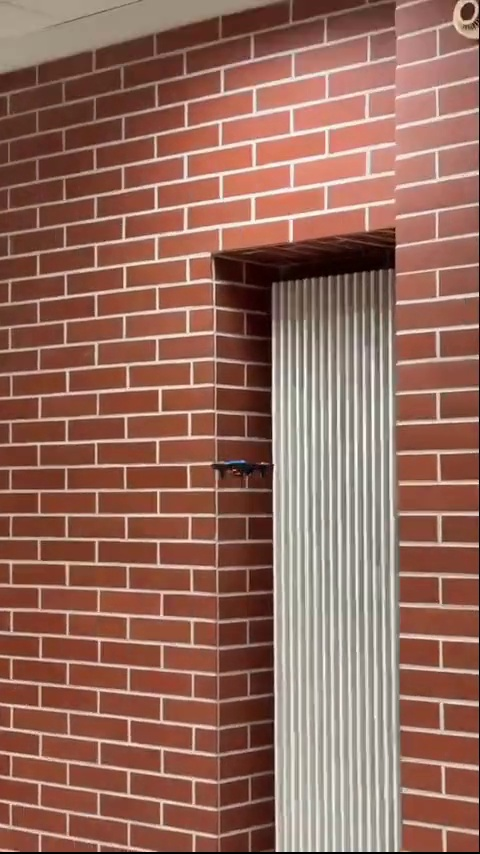drone: (212, 454, 280, 484)
